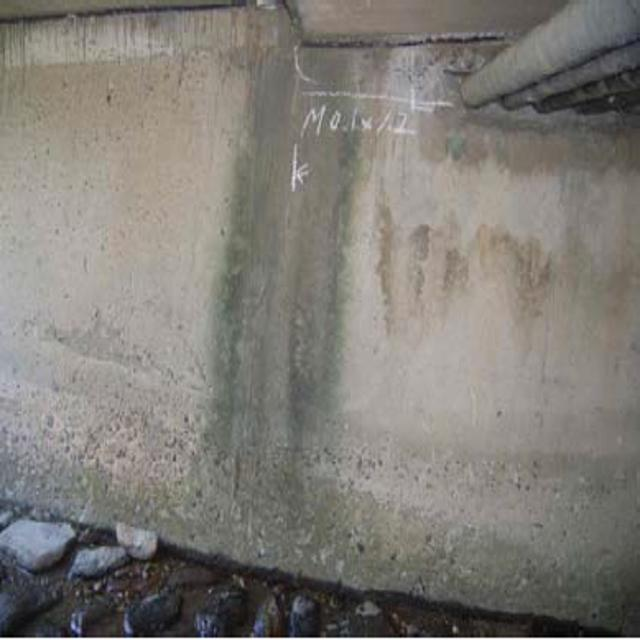leakage: (199, 24, 377, 519)
